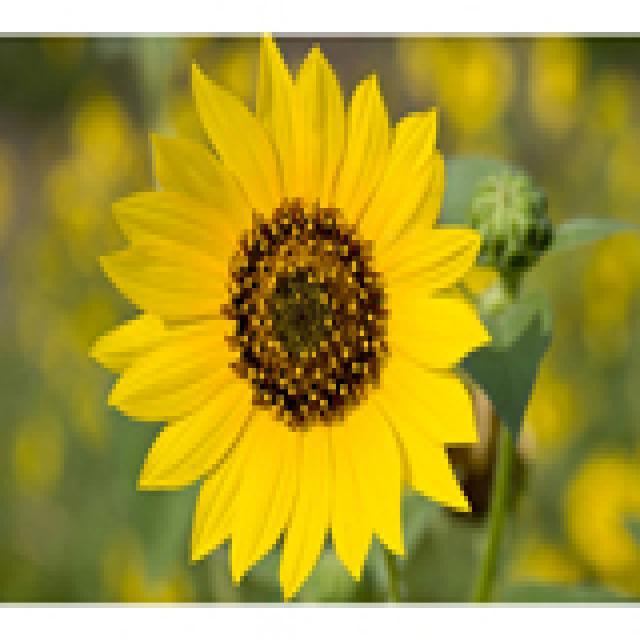sunflower: (91, 34, 502, 630), (560, 427, 640, 626)
